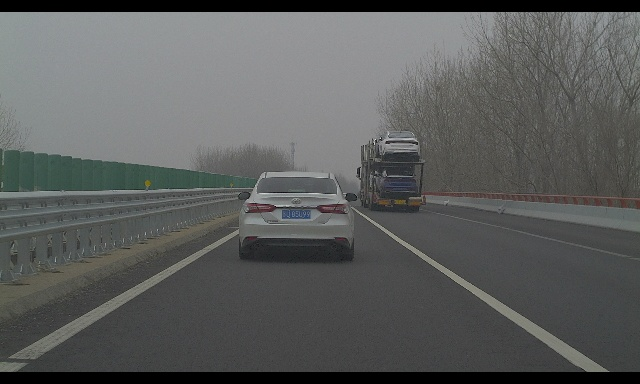car: (238, 171, 358, 261)
truck: (357, 131, 426, 212)
